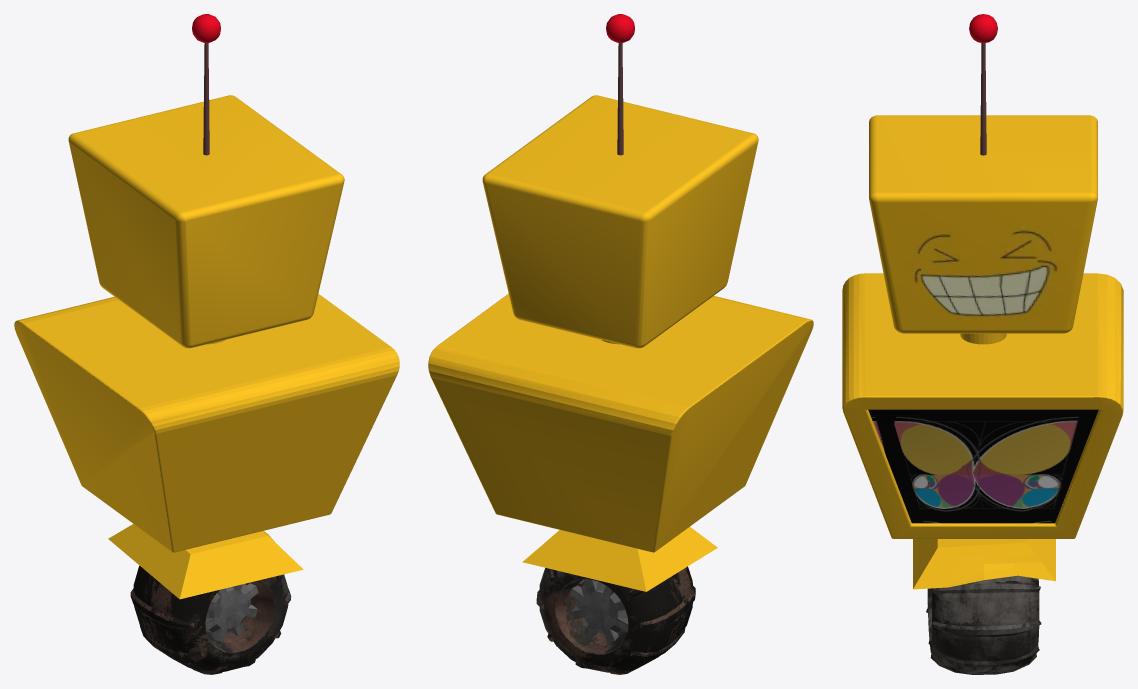
Rendered from SkillRobotTest.glb.
The picture shows the model from 3 angles, left to right: view 1: azimuth 30°, elevation 25°; view 2: azimuth 150°, elevation 25°; view 3: azimuth 270°, elevation 25°; orthographic projection.
Visible parts, largest first — view 1: Cube.002, pCylinder31_tyre_0; view 2: Cube.002, pCylinder31_tyre_0; view 3: Cube.002, Cube, pCylinder31_tyre_0.
Part boxes in pixels (x1,y1,x2,y2): Cube.002: (14, 14, 399, 599); pCylinder31_tyre_0: (130, 565, 291, 674); Cube.002: (428, 14, 813, 591); pCylinder31_tyre_0: (536, 566, 695, 674); Cube.002: (842, 14, 1123, 589); Cube: (868, 409, 1098, 523); pCylinder31_tyre_0: (926, 575, 1041, 674).
Size of the model in its own units: 3.52 by 8.61 by 3.38.
Materials: 5 (5 with a texture image).
